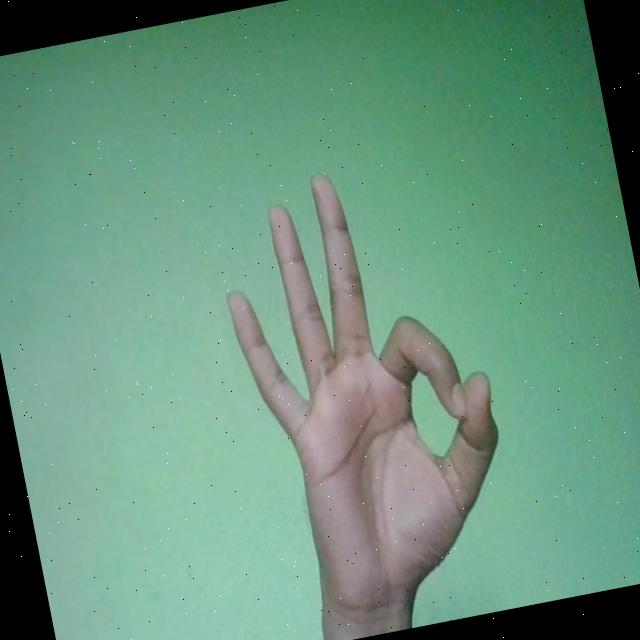Rock On: (207, 151, 531, 635)
